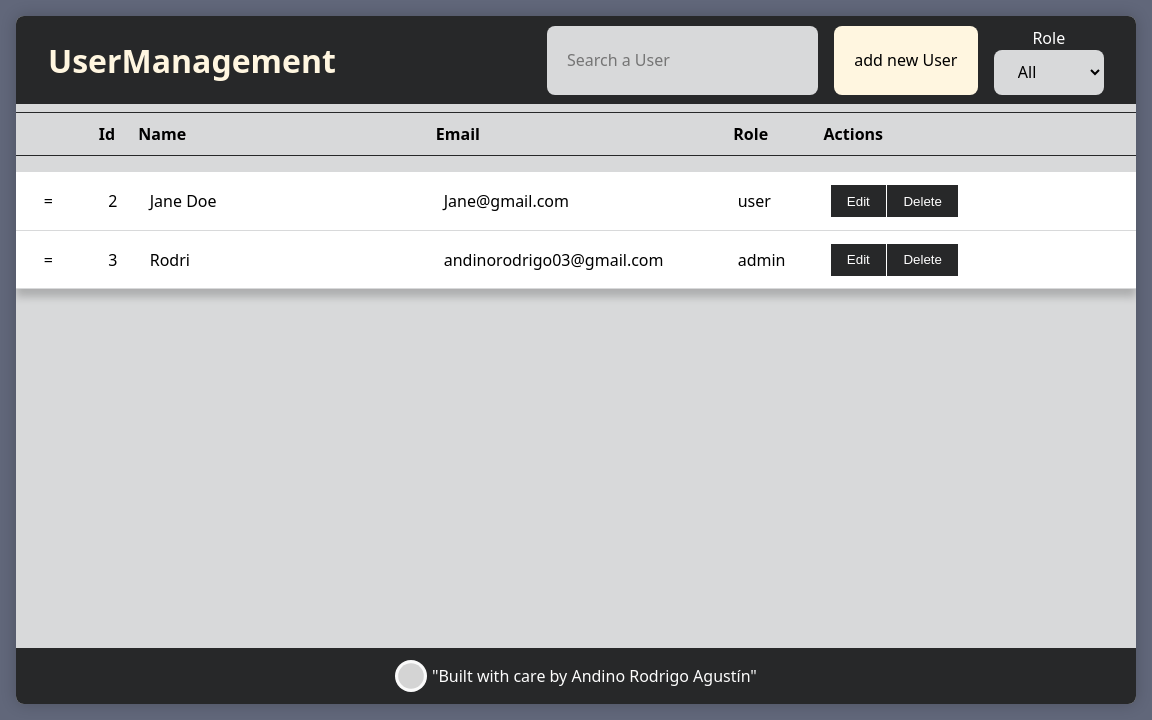
it: App › should edit a user
Expected: the cell "2" is shown, [80,184,145,218]
Click the button "Edit" in the row of "Jane Doe" at [858, 201], box [831,185,886,217]
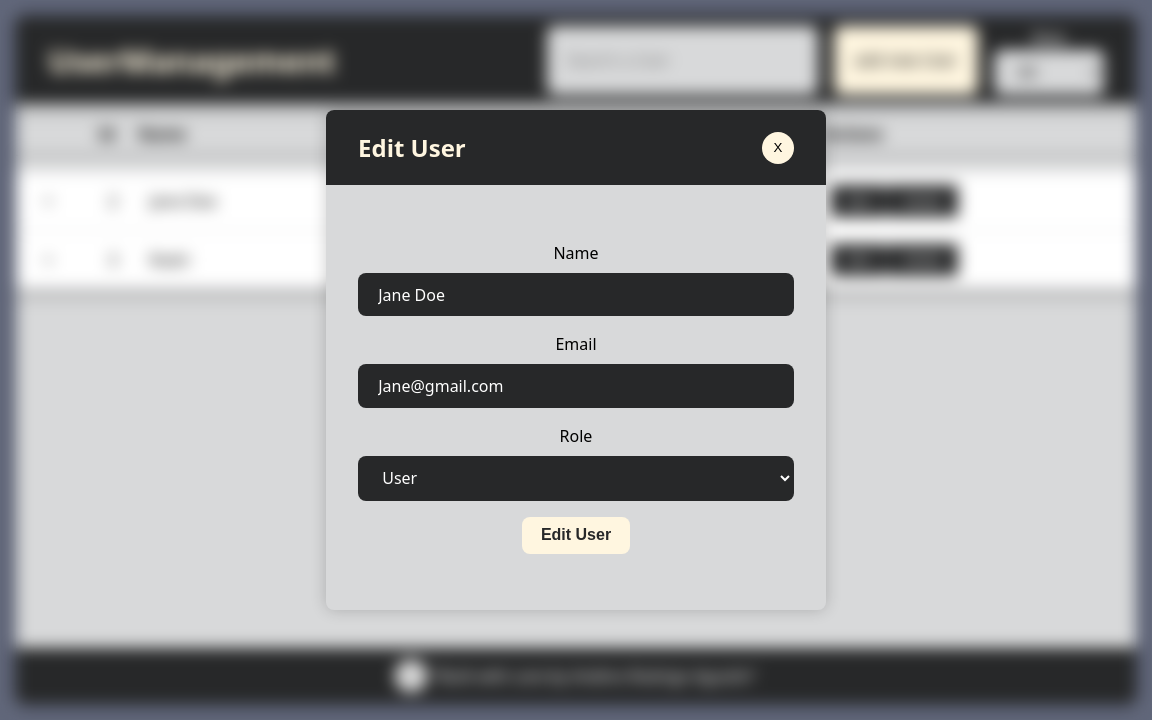
Replace the text in the field labelled "Name" with "Rodri" at [576, 295], box [358,273,794,316]
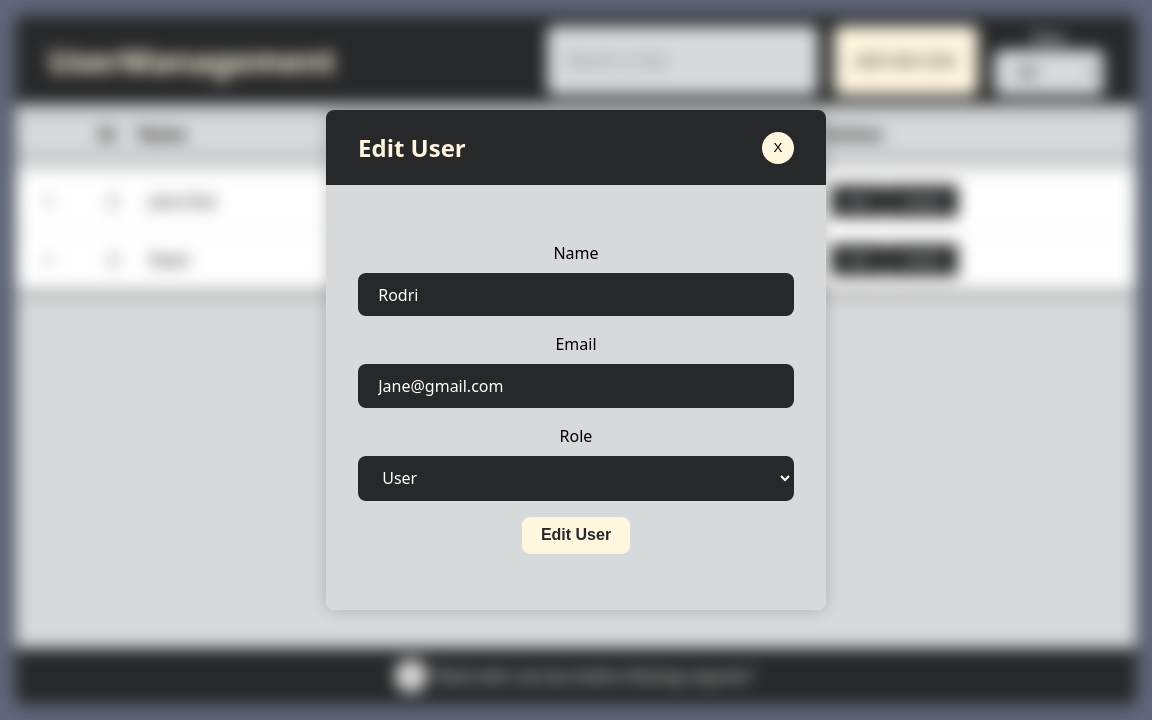
Replace the text in the field labelled "Email" with "andinorodrigo03@gmail.com" at [576, 386], box [358,364,794,408]
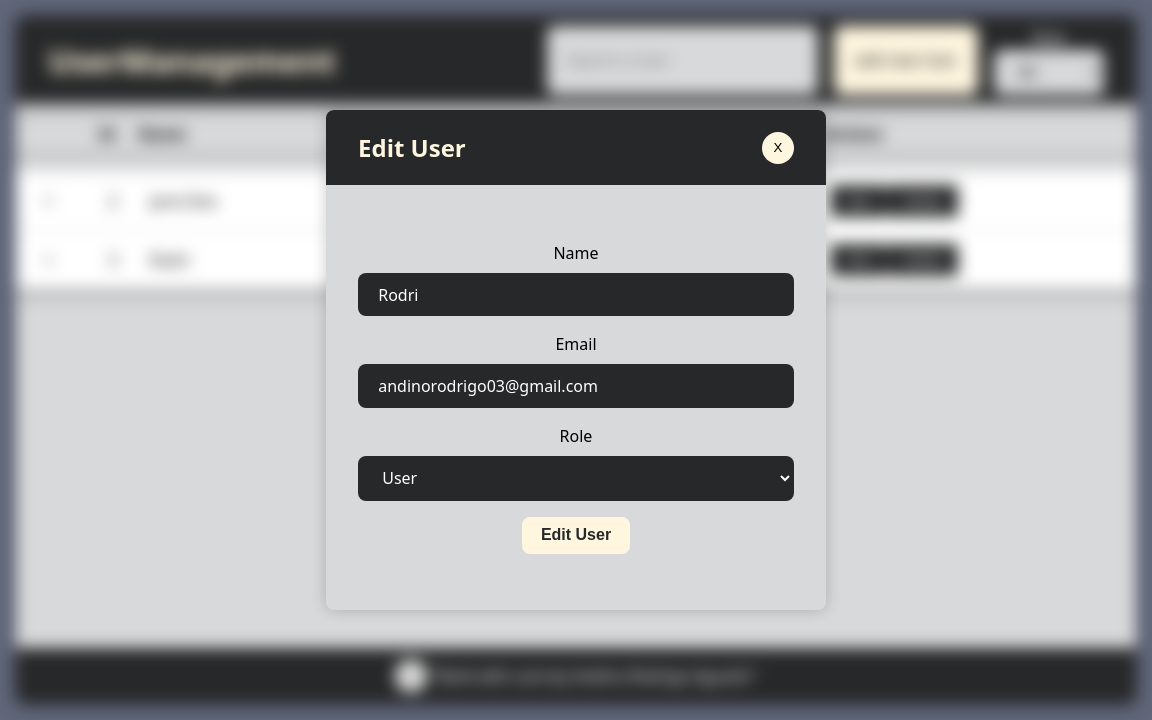
Click the button "Edit User" at [576, 535], box [522,517,630,554]
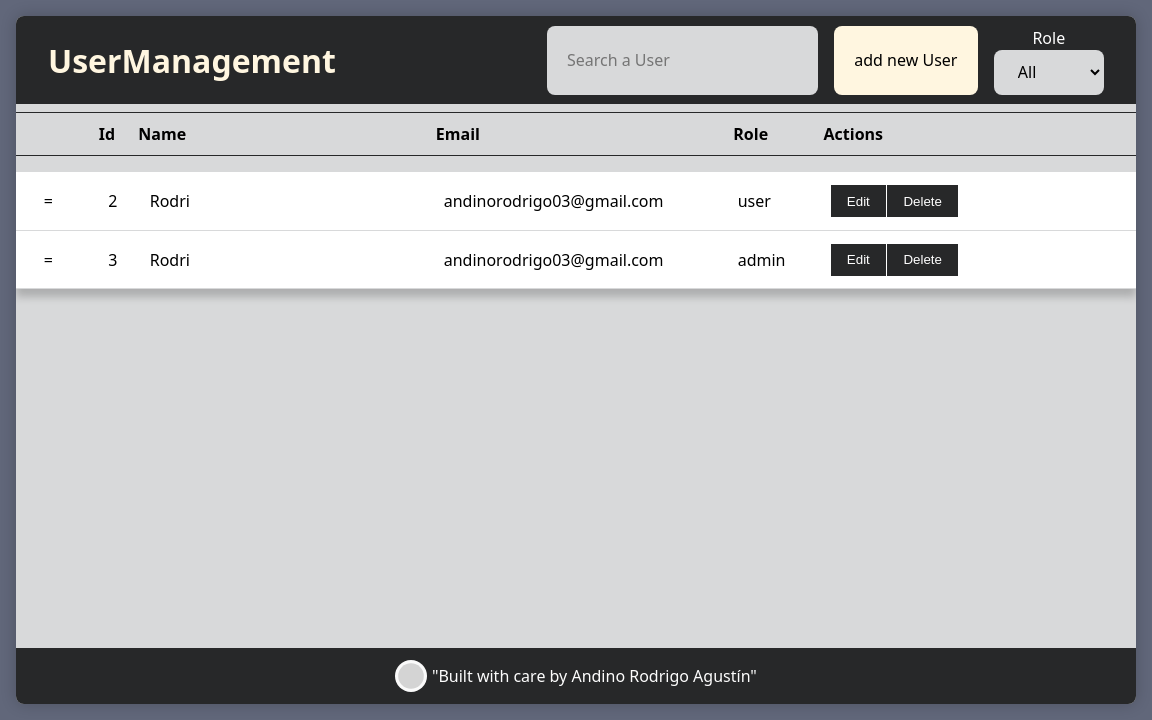
Now the 1st cell "Rodri" is shown, box [145,184,439,218]
Now the 1st cell "andinorodrigo03@gmail.com" is shown, box [439,184,733,218]
